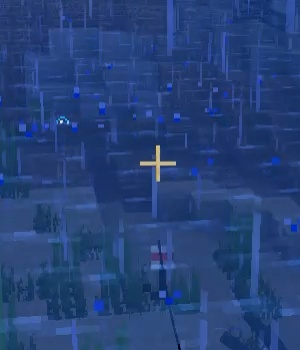down: (141, 237, 178, 304)
